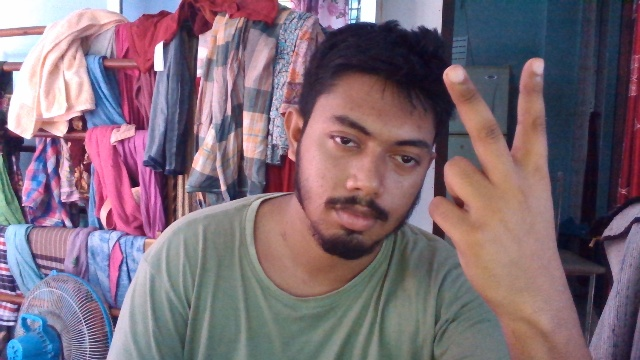thanks: (429, 53, 570, 293)
